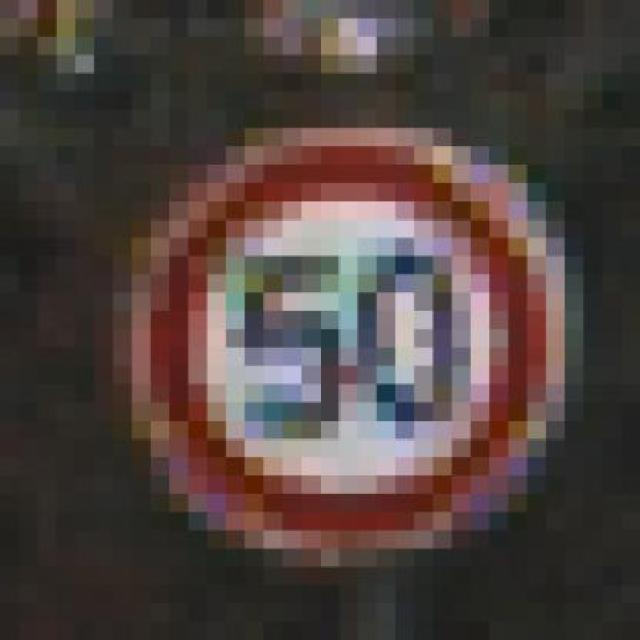50 mph speed limit: (94, 54, 603, 548)
